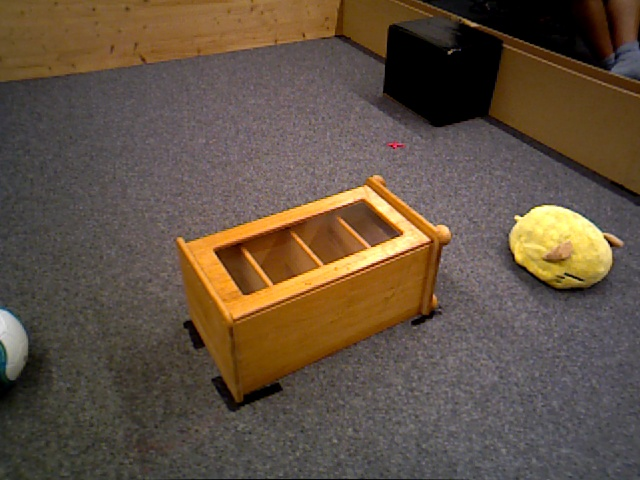grasp: (508, 203, 614, 293)
kick: (1, 307, 29, 384)
push: (388, 24, 497, 126)
